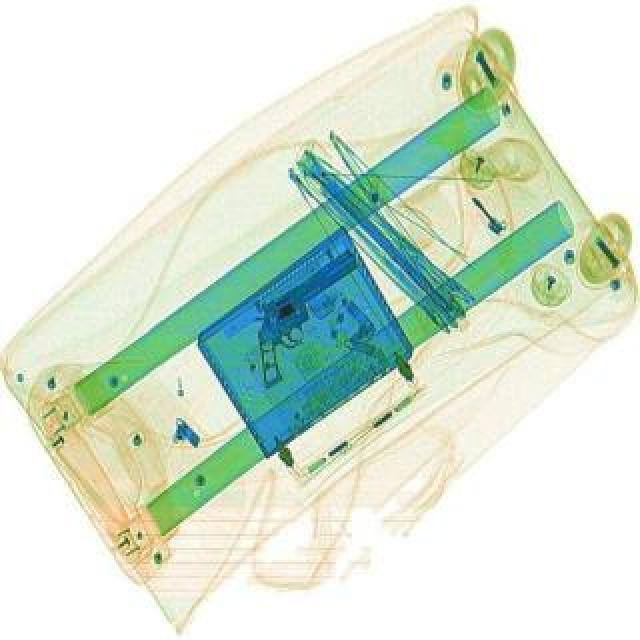gun: (222, 248, 392, 384)
